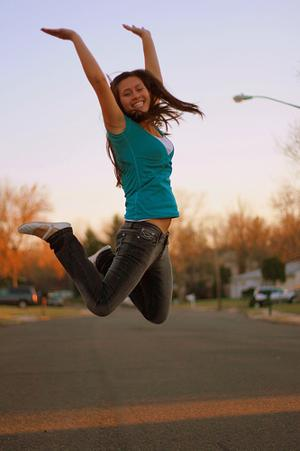person: (20, 23, 178, 332)
